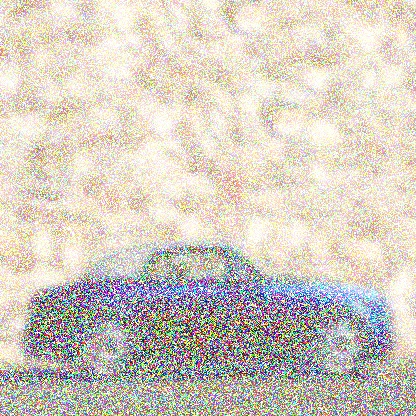Vehicle: (21, 236, 397, 380)
